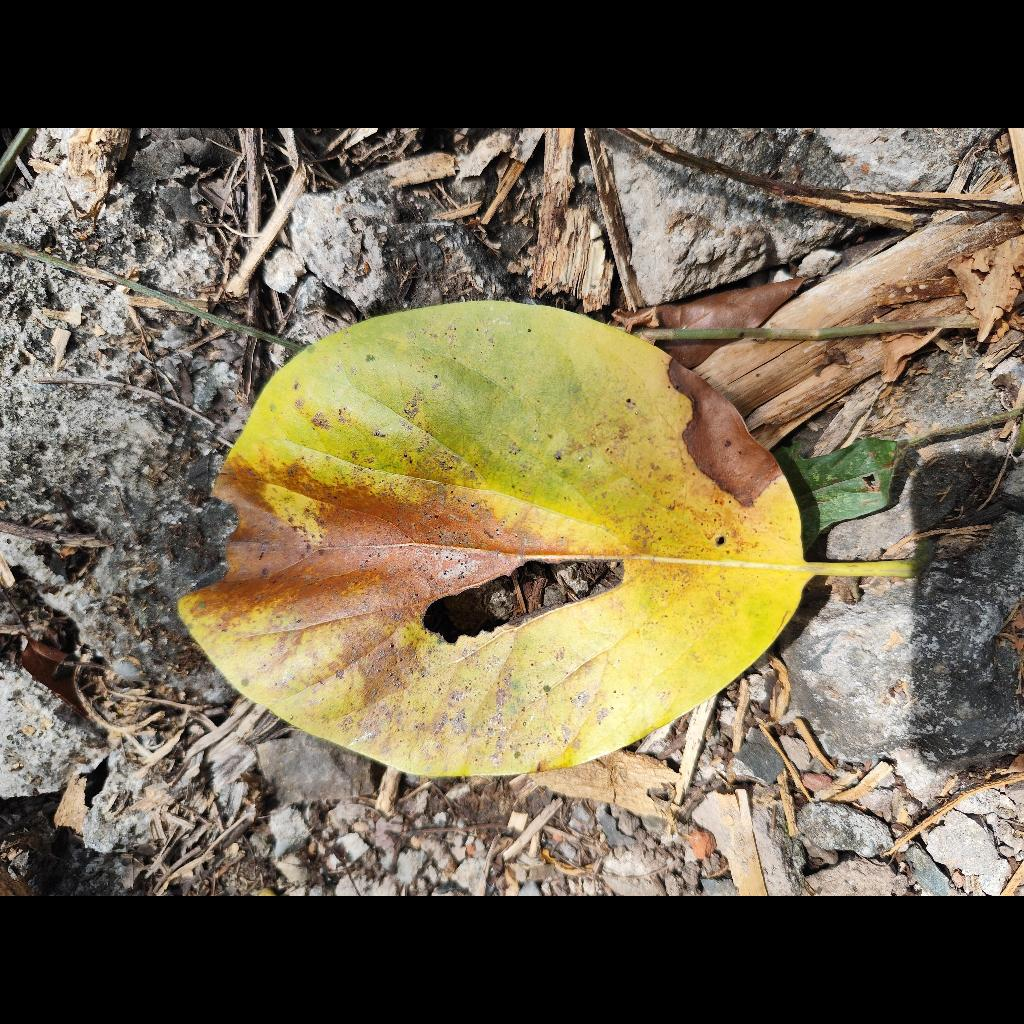deficiencia_nutricional: (179, 302, 922, 775)
